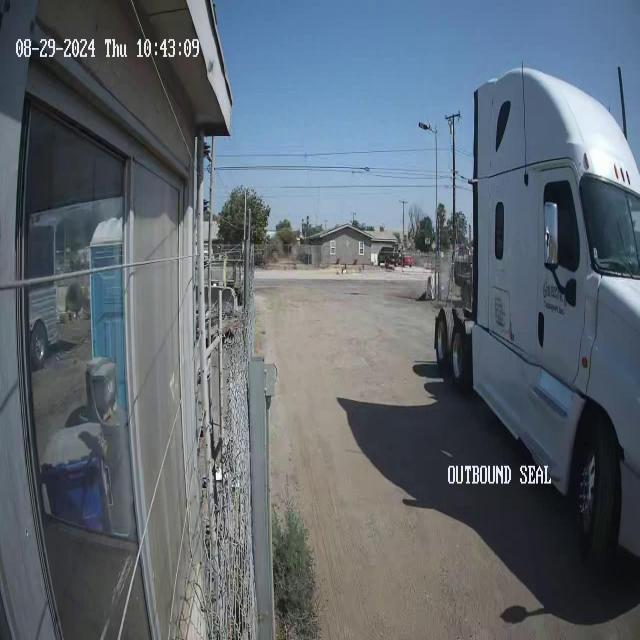TRUCK_IN: (433, 60, 639, 565)
